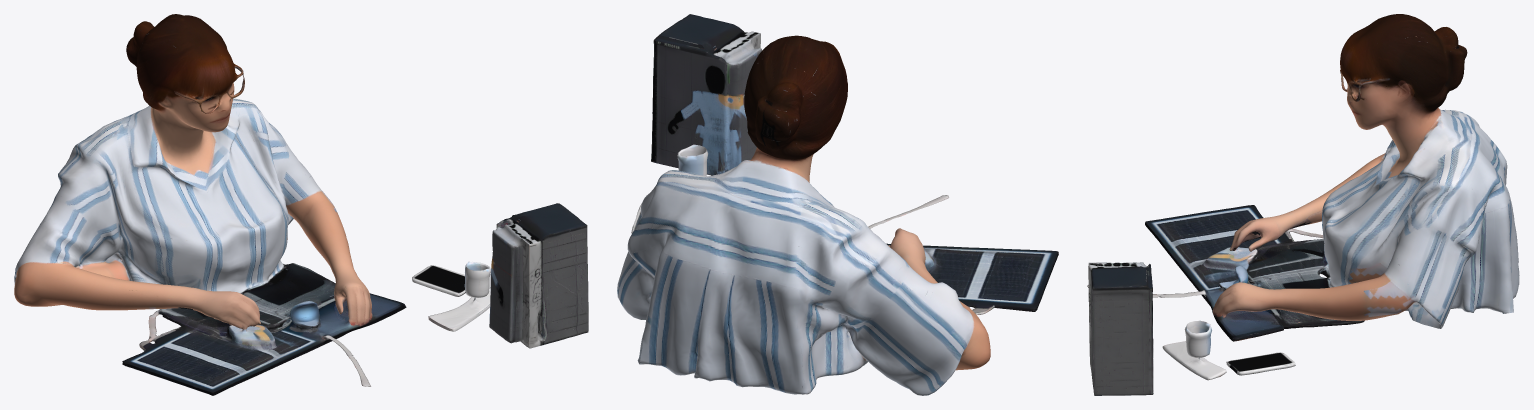
Rendered from chica_creativa.glb.
3 views of the same model, side by side, from view 1: azimuth 30°, elevation 25°; view 2: azimuth 150°, elevation 25°; view 3: azimuth 270°, elevation 25° (orthographic). The views are drawn at different scales.
Parts seen in each view (by area): view 1: Mesh_0; view 2: Mesh_0; view 3: Mesh_0.
Boxes of the visible parts, x1,y1,x2,y2 form: Mesh_0: (14,14,588,395); Mesh_0: (617,14,1058,395); Mesh_0: (1087,14,1519,395).
Size of the model in its own units: 1.91 by 1.17 by 1.73.
1 material, 1 textured.
